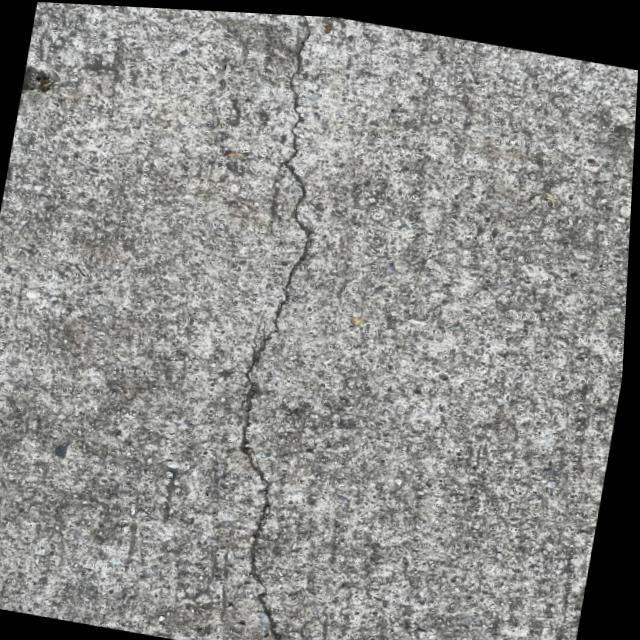Crack: (150, 7, 429, 640)
